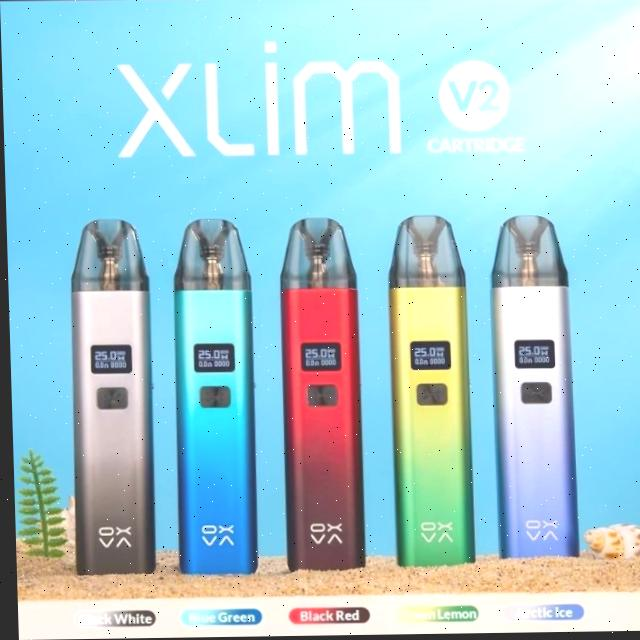vape: (63, 218, 156, 577), (484, 215, 578, 561), (168, 217, 258, 577), (274, 216, 364, 573), (382, 214, 472, 568)
